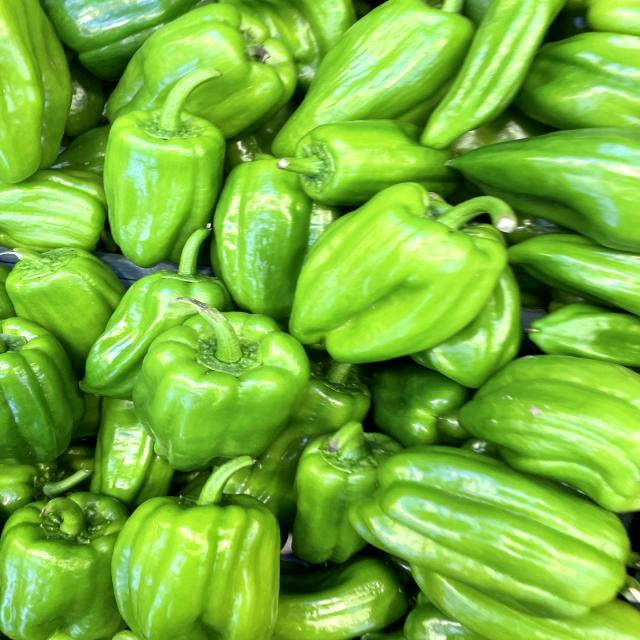bell pepper: (280, 178, 549, 369), (120, 291, 319, 474), (96, 457, 291, 640), (89, 60, 252, 275)
